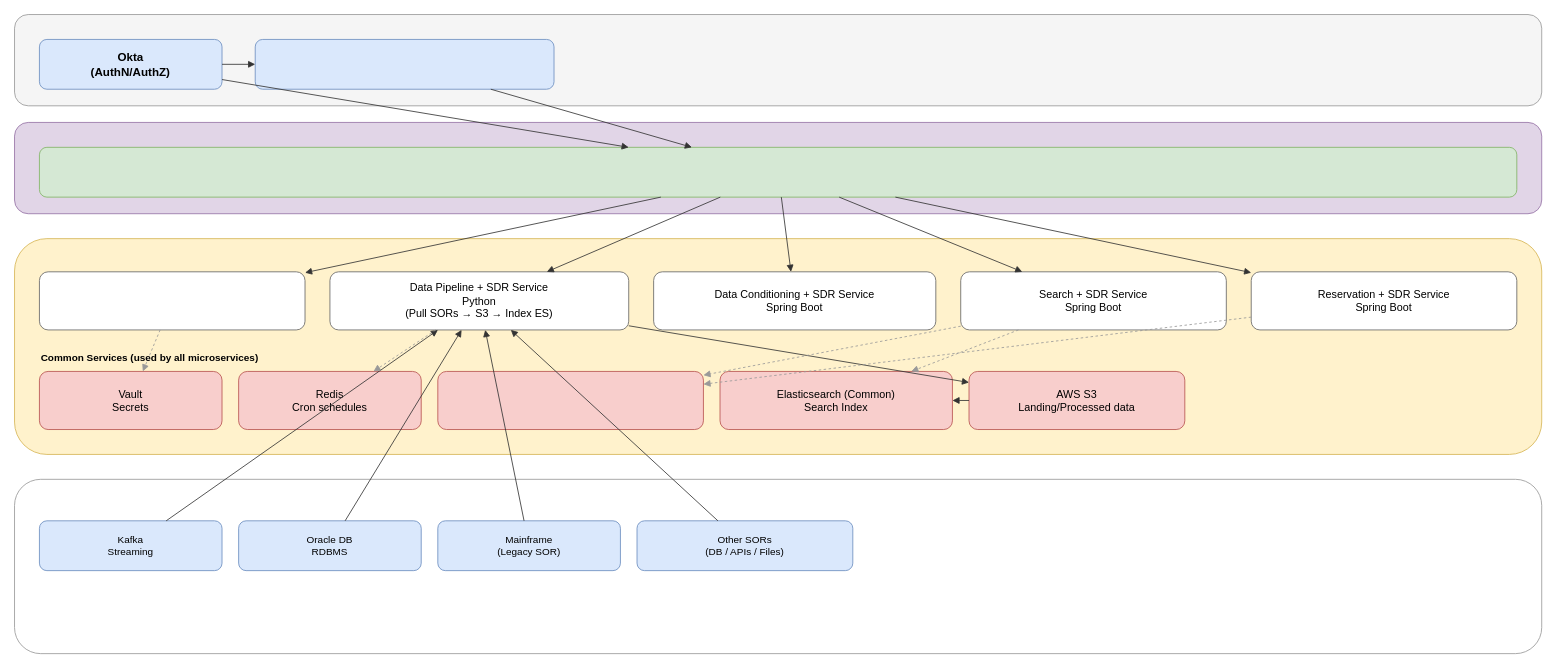
The diagram is 1556 pixels wide and 668 high, and some of its shapes have lost their labels. Each missing label, with the box of its shape:
API Gateway (Common) Token validation via Okta: (39, 146, 1517, 197)
Couchbase Metadata / Users / Reservations: (437, 371, 703, 430)
External Systems of Record (SORs) - Data Sources: (14, 478, 1542, 654)
Microservices Layer: (14, 238, 1542, 454)
New Account + SDR Service Spring Boot: (39, 271, 305, 330)
Security Layer: (14, 14, 1542, 106)
Self-Service UI React.js: (254, 39, 554, 89)
